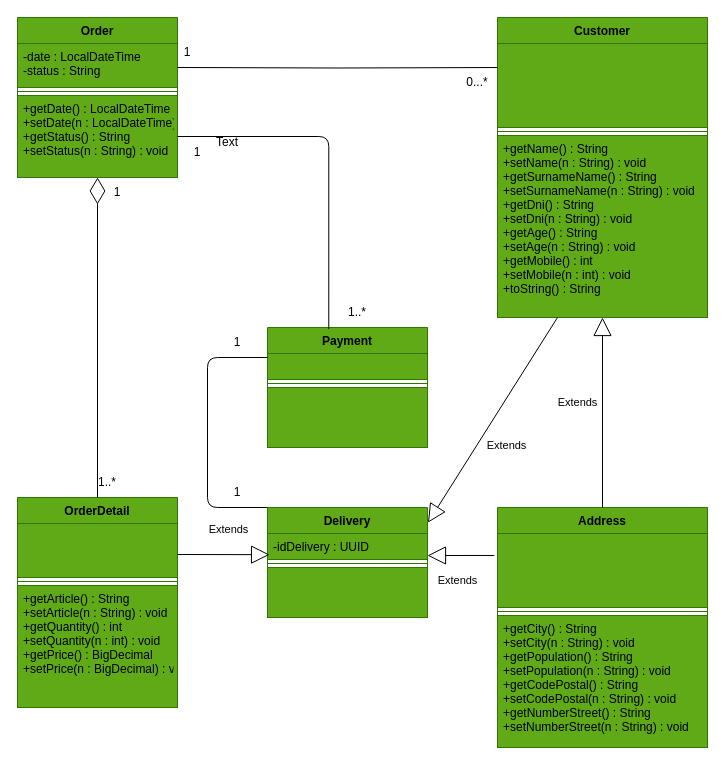
This 725x768 diagram has some shape labels left out. Each missing label, with the centre of its shape:
+getAmount() : BigDecimal +setAmout(n : BigDecimal) : void: the point at 347,417
+getIdDelivery() : UUID +setgetIdDelivery(n : UUID) : void: the point at 347,592
-amout : BigDecimal: the point at 347,366
-article : String -quantity : int -price : BigDecimal: the point at 97,550
-city : String -population : String -codePostal : String -numberStreet : String: the point at 602,570
-name: String -surname:String -dni: String -age : int -mobile : int: the point at 602,85
